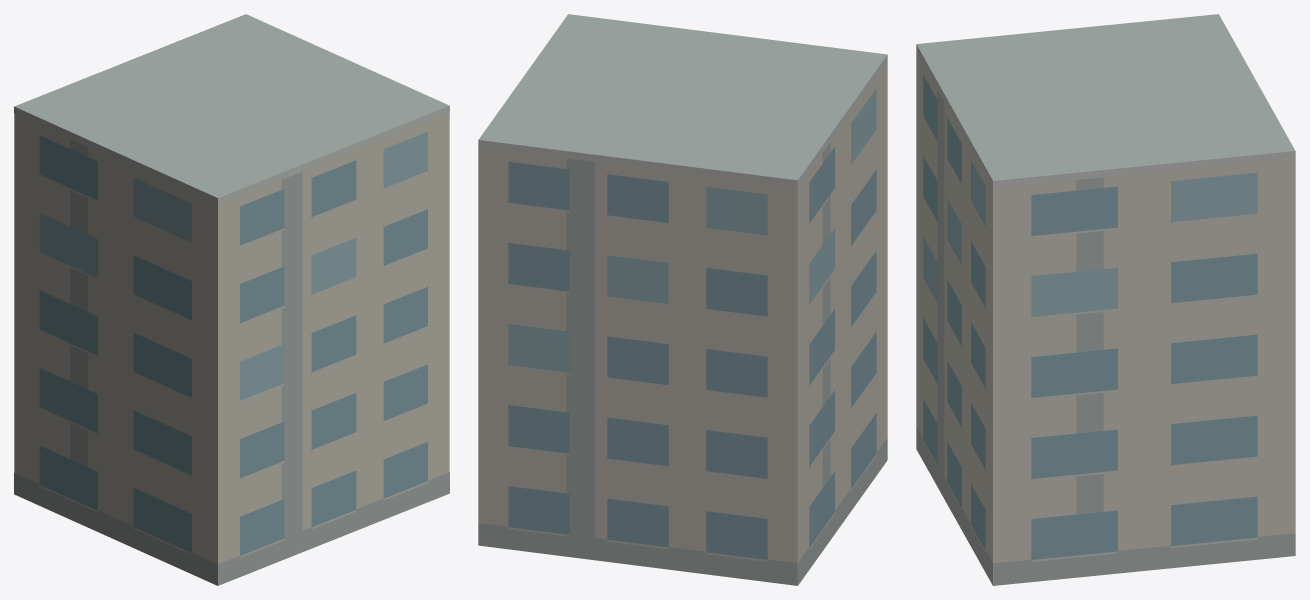
Rendered from survey-upis-32695259.glb.
The picture shows the model from 3 angles, left to right: view 1: azimuth 30°, elevation 25°; view 2: azimuth 150°, elevation 25°; view 3: azimuth 270°, elevation 25°; orthographic projection. The views are drawn at different scales.
Visible parts, largest first — view 1: survey-upis-32695259.tmp; view 2: survey-upis-32695259.tmp; view 3: survey-upis-32695259.tmp.
Part boxes in pixels (<box>): survey-upis-32695259.tmp: <box>14,14,449,585</box>; survey-upis-32695259.tmp: <box>478,14,887,585</box>; survey-upis-32695259.tmp: <box>916,14,1295,585</box>.
Size of the model in its own units: 11.77 by 13.3 by 11.3.
